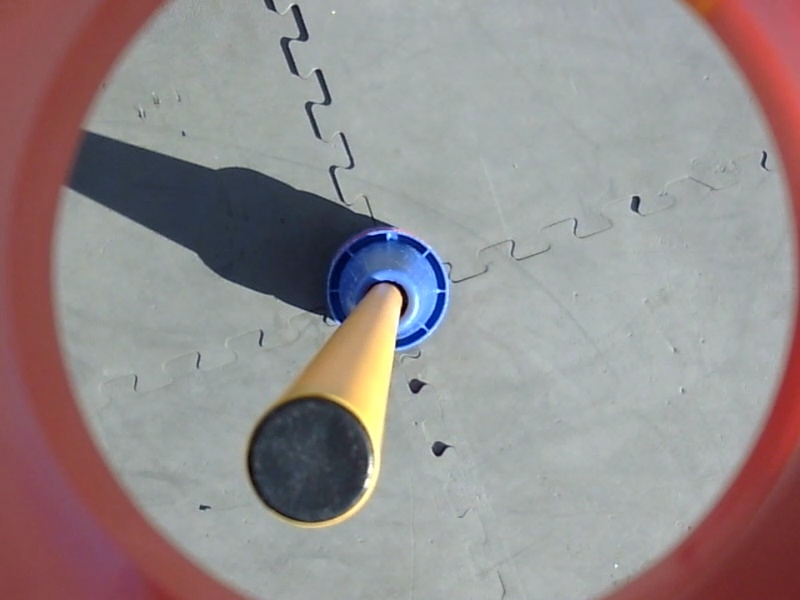tip: (240, 389, 387, 535)
